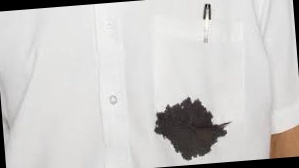ink: (155, 97, 230, 162)
